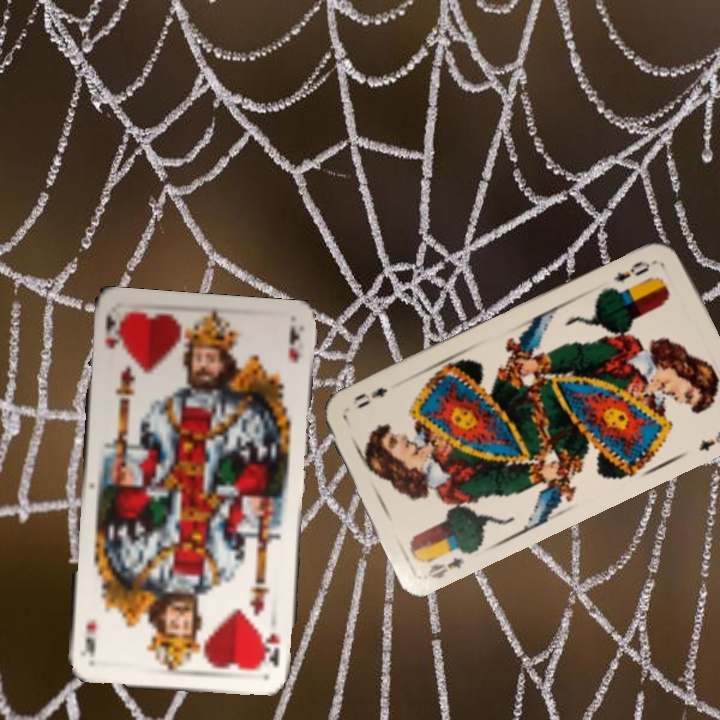EO: (609, 256, 659, 286), (423, 552, 467, 581)
HK: (258, 629, 283, 670), (100, 311, 124, 352)
